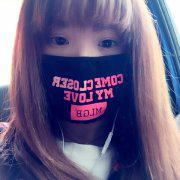OK: (38, 24, 134, 120)
